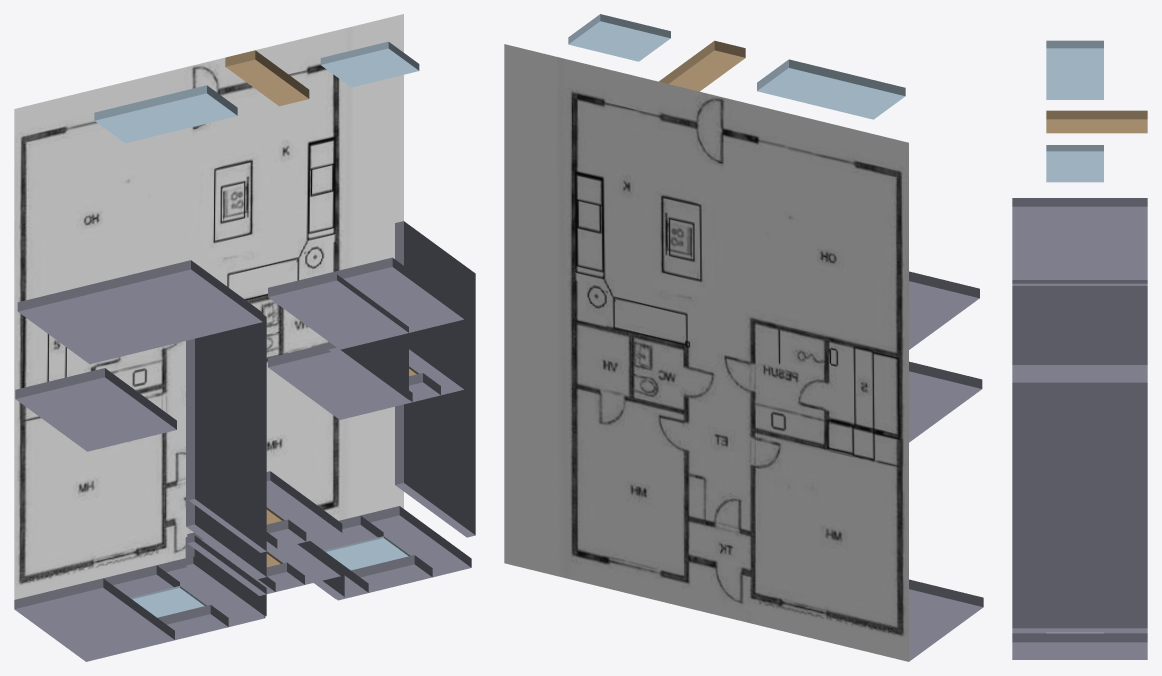
File: sample3.gltf
The picture shows the model from 3 angles, left to right: view 1: azimuth 30°, elevation 25°; view 2: azimuth 150°, elevation 25°; view 3: azimuth 270°, elevation 25°; orthographic projection. The views are drawn at different scales.
Parts seen in each view (by area): view 1: InteriorFloor, sample3; view 2: InteriorFloor, sample3; view 3: sample3.
Boxes of the visible parts, left/top/right/bottom form: InteriorFloor: left=14, top=14, right=403, bottom=599; sample3: left=14, top=41, right=475, bottom=661; InteriorFloor: left=504, top=44, right=908, bottom=661; sample3: left=568, top=14, right=983, bottom=661; sample3: left=1012, top=40, right=1147, bottom=659.
Bounding box in the file's own units: 8.76 × 10.74 × 2.8.
2 materials, 1 textured.
